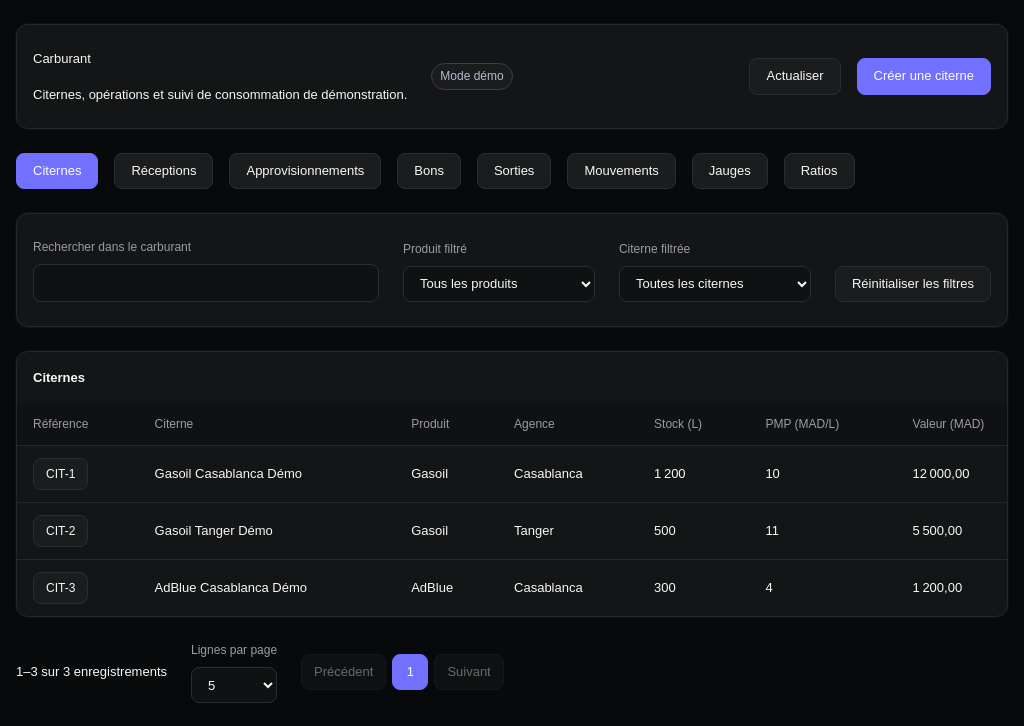
Test: Carburant › snapshots a gauge and leaves theoretical stock unchanged
This screenshot has width=1024, height=726.
Expected: the table "Citernes" is shown, [17, 352, 1007, 616]
Click the button "Jauges". click: click(730, 171)
box: [692, 153, 768, 189]
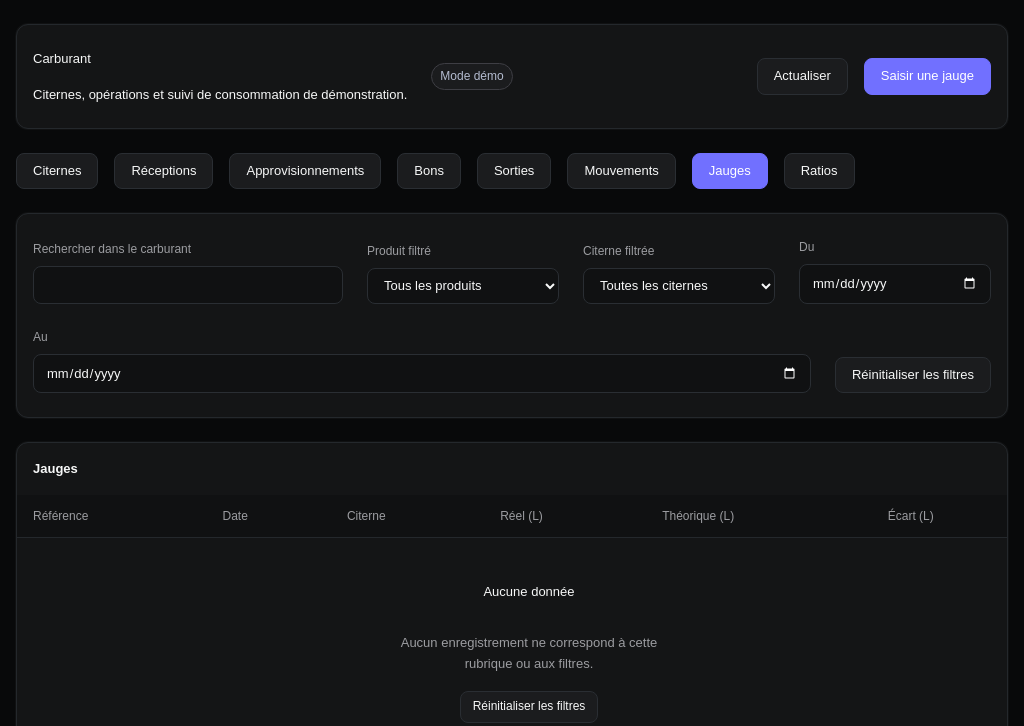
Click the button "Saisir une jauge". click: click(927, 76)
box: [864, 58, 991, 95]
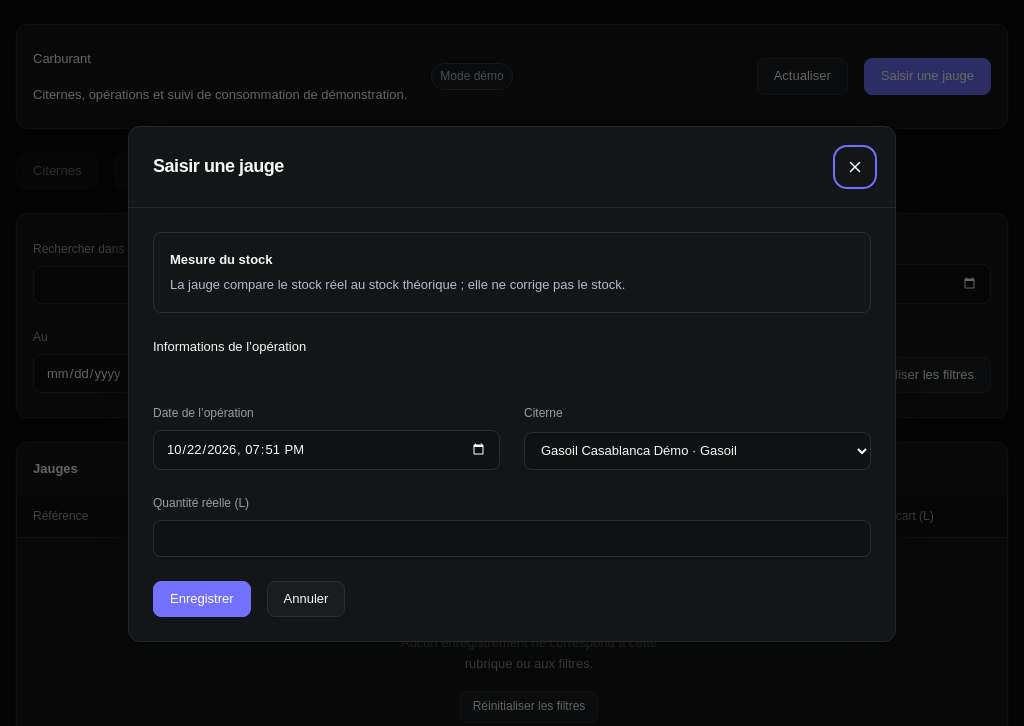
Type "1150" into the number field labelled "Quantité réelle (L)". click: (512, 538)
box: [153, 520, 871, 557]
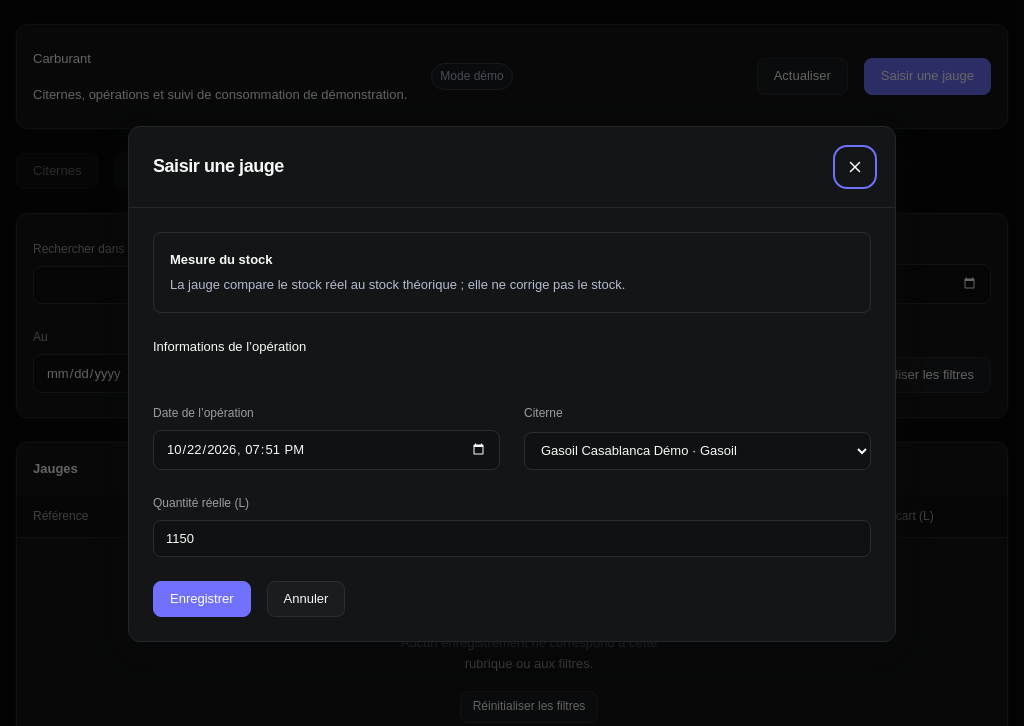
Click the button "Enregistrer". click: click(202, 599)
box: [153, 581, 251, 617]
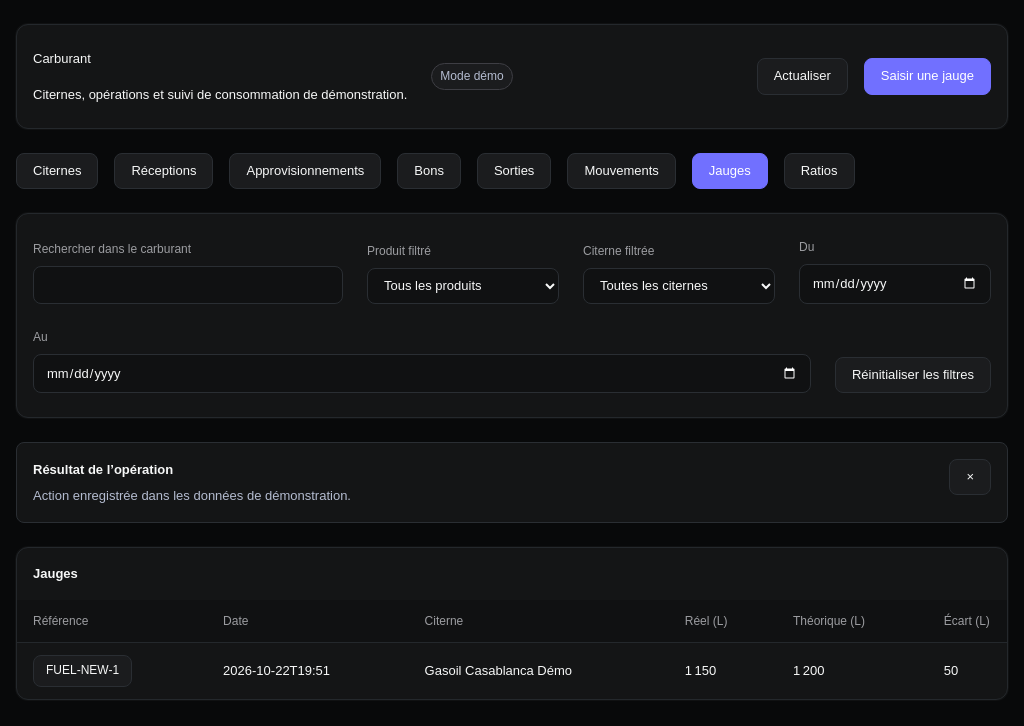
Now the dialog is gone
